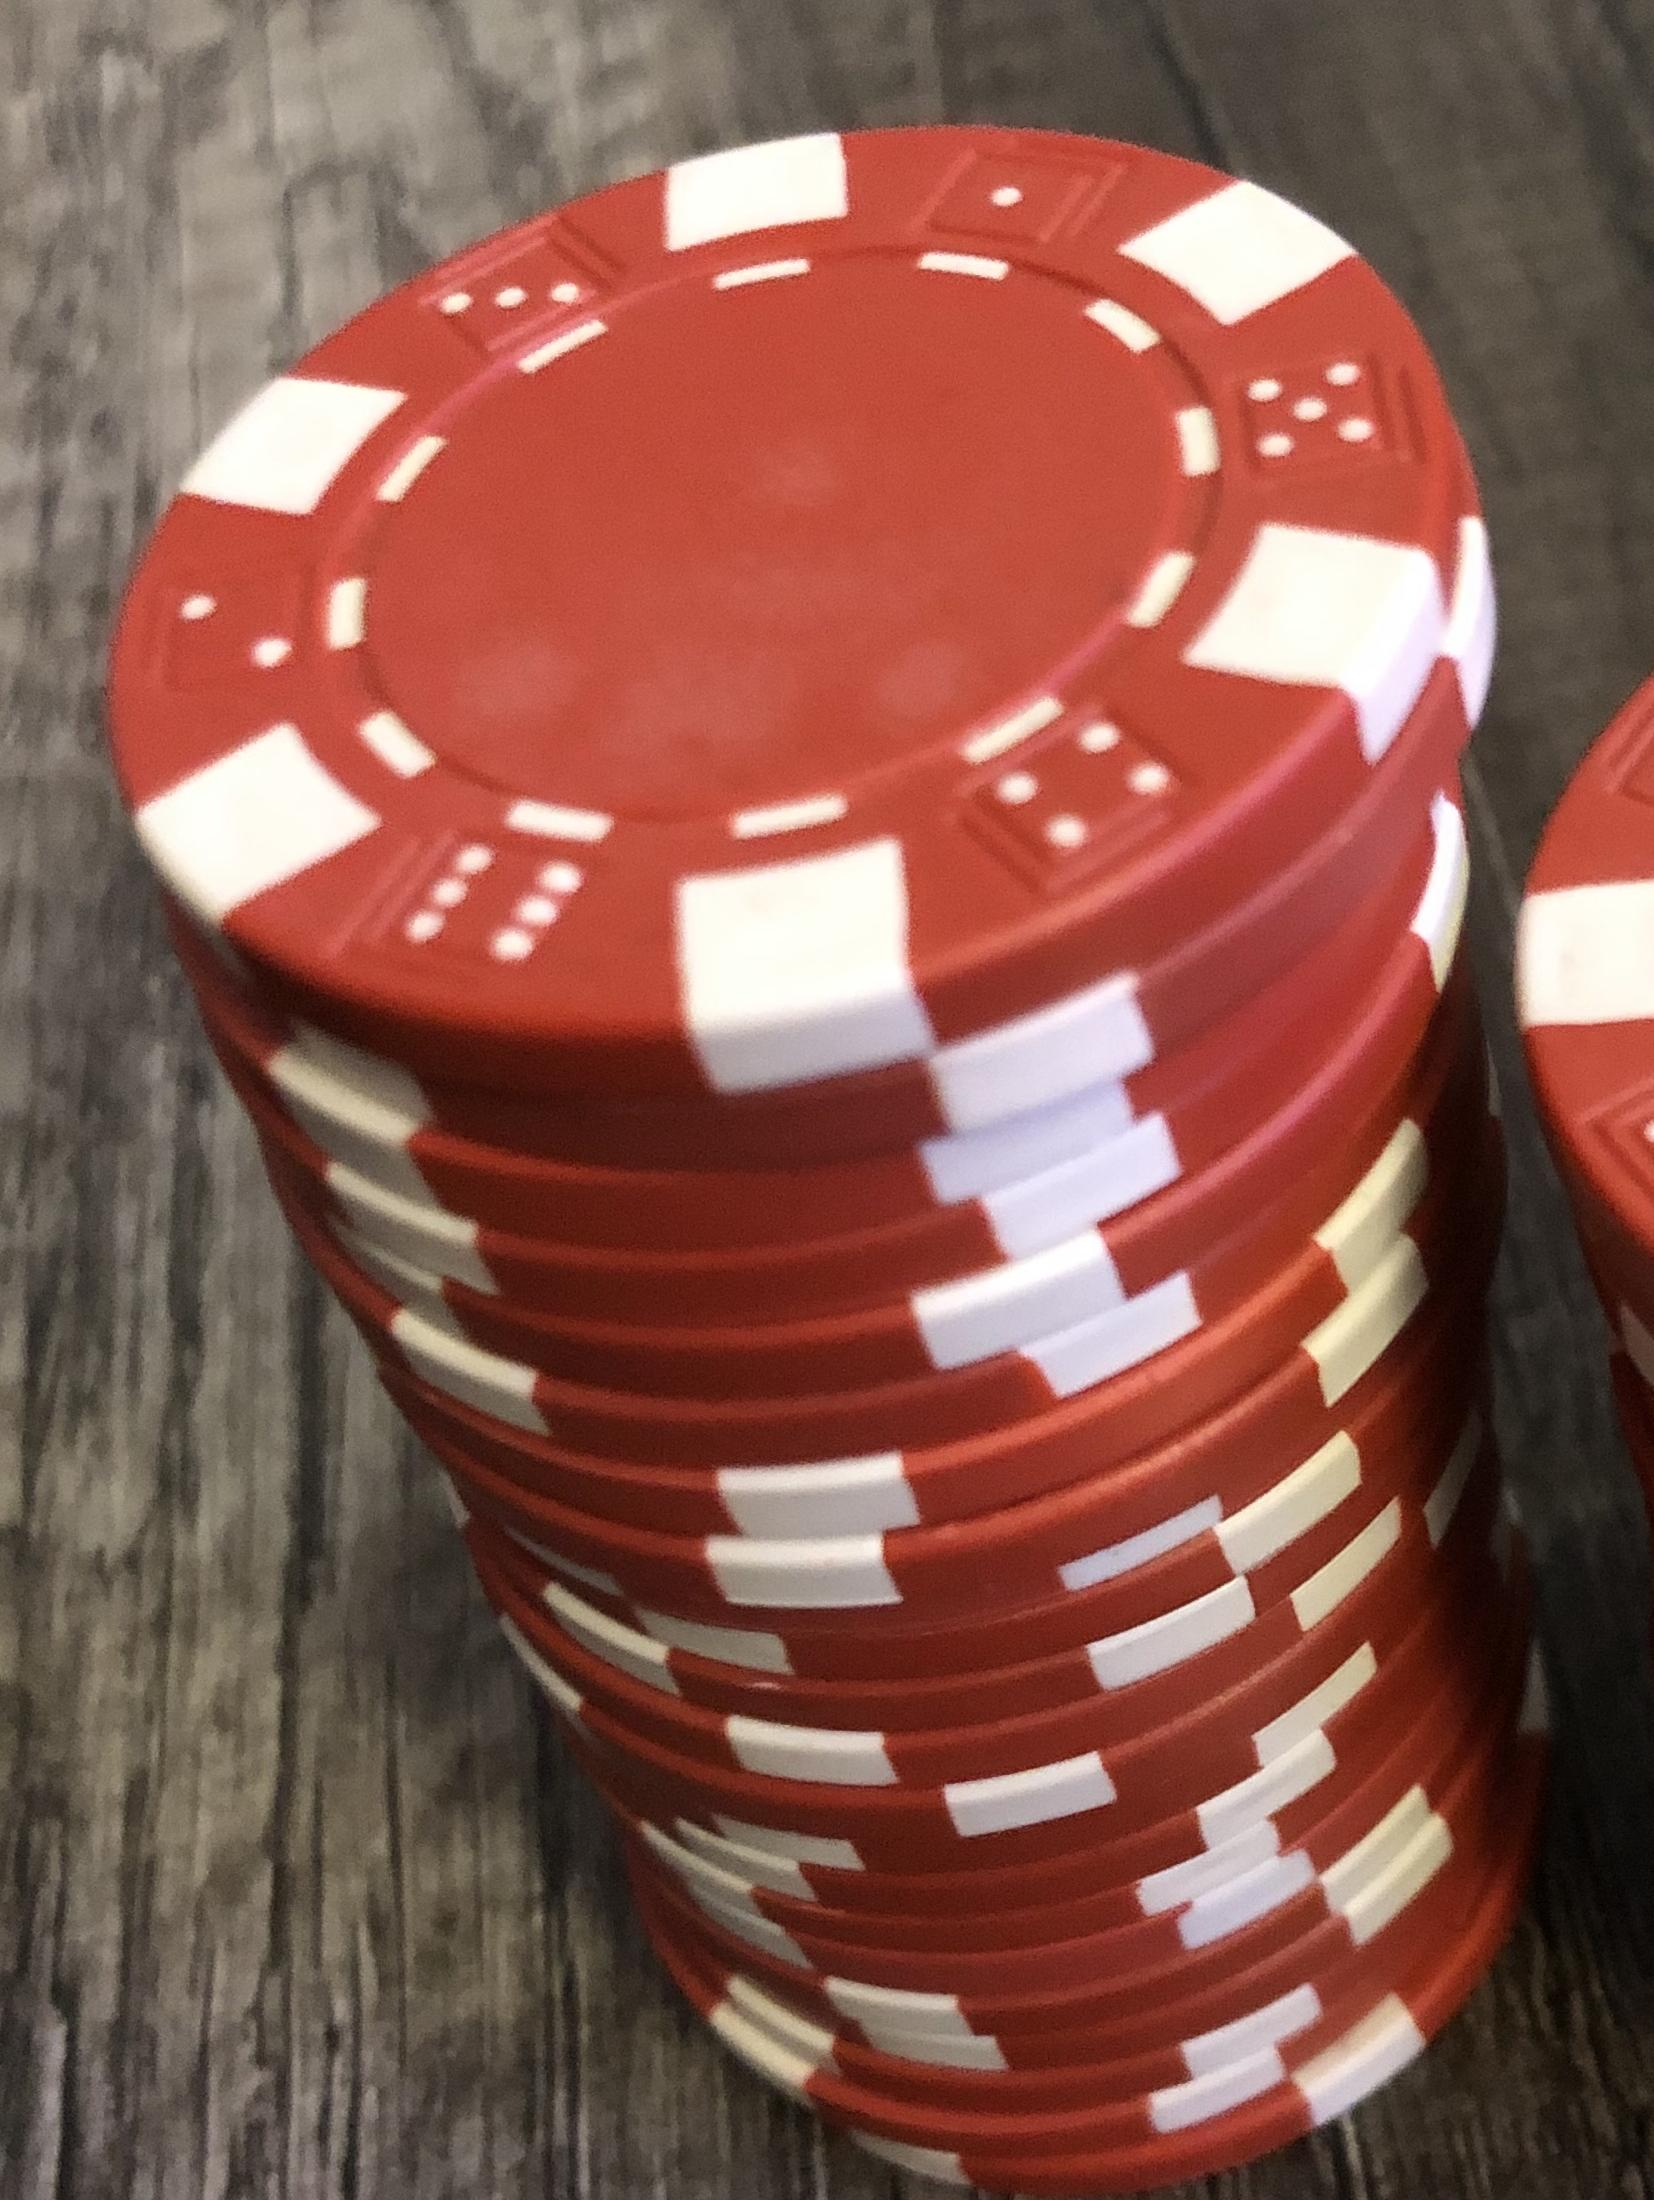Chip: (2, 2, 1654, 2200)
